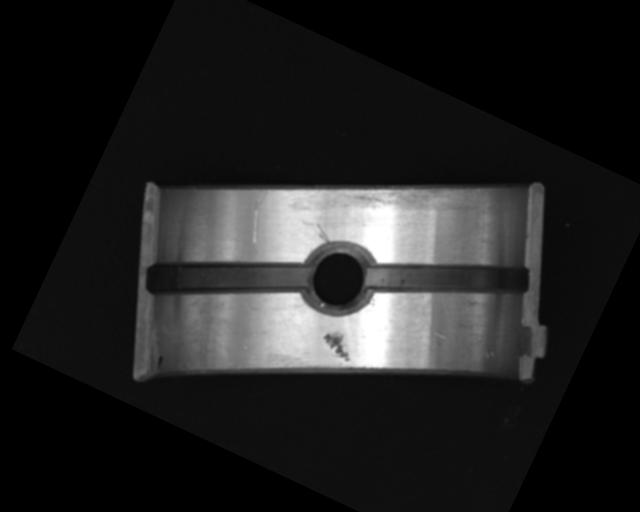blot: (154, 354, 165, 369)
bruise: (318, 326, 360, 363), (428, 326, 450, 342)
gap: (142, 207, 312, 348), (365, 209, 535, 346)
hole: (289, 229, 384, 327)
nick: (237, 185, 286, 255), (311, 223, 335, 244)
scratch: (322, 128, 485, 259)
